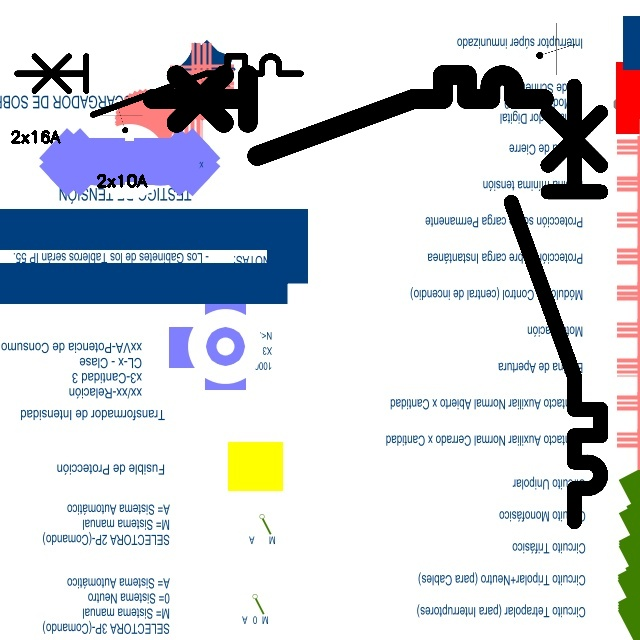interruptor_termomagnetico: (500, 74, 612, 532), (142, 65, 553, 165), (10, 49, 308, 122)
